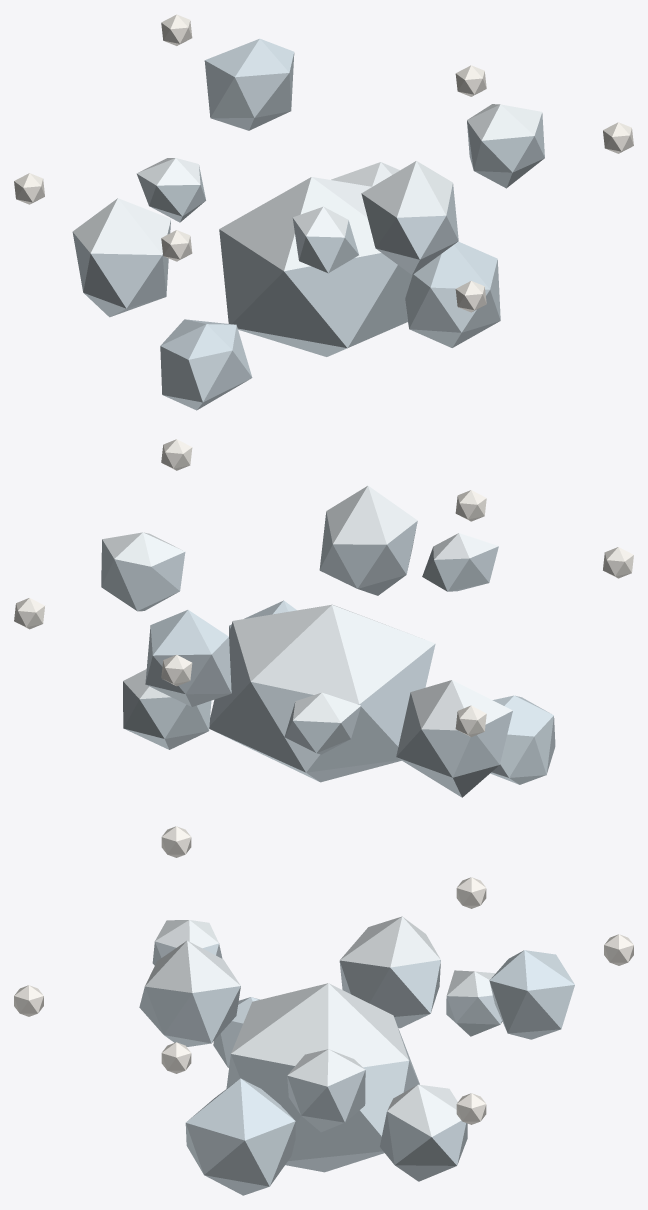
The model's file is snow_puff.glb.
3 views of the same model, one above another, from view 1: azimuth 30°, elevation 25°; view 2: azimuth 150°, elevation 25°; view 3: azimuth 270°, elevation 25° (orthographic).
Parts seen in each view (by area): view 1: snow_puff; view 2: snow_puff; view 3: snow_puff.
Part boxes in pixels (x1=…): snow_puff: x1=14, y1=14, x2=633, y2=410; snow_puff: x1=14, y1=439, x2=633, y2=797; snow_puff: x1=14, y1=826, x2=633, y2=1195.
Size of the model in its own units: 0.7722 by 0.3803 by 0.8825.
